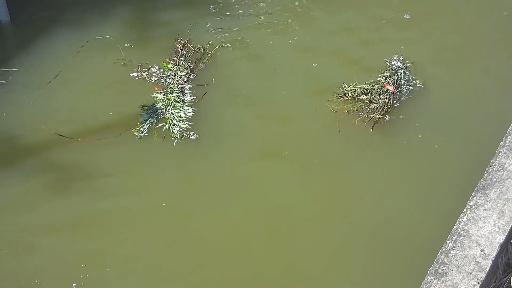twig: (115, 35, 219, 148), (337, 45, 414, 139)
